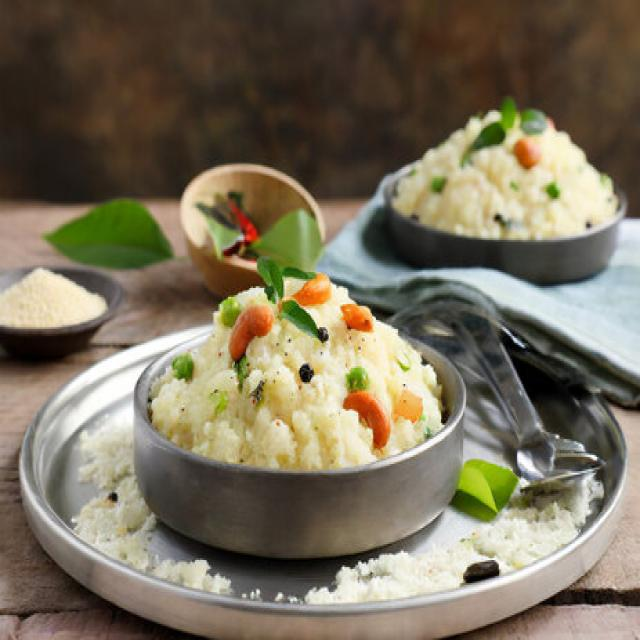UPMA: (151, 261, 449, 471), (388, 100, 618, 236)
